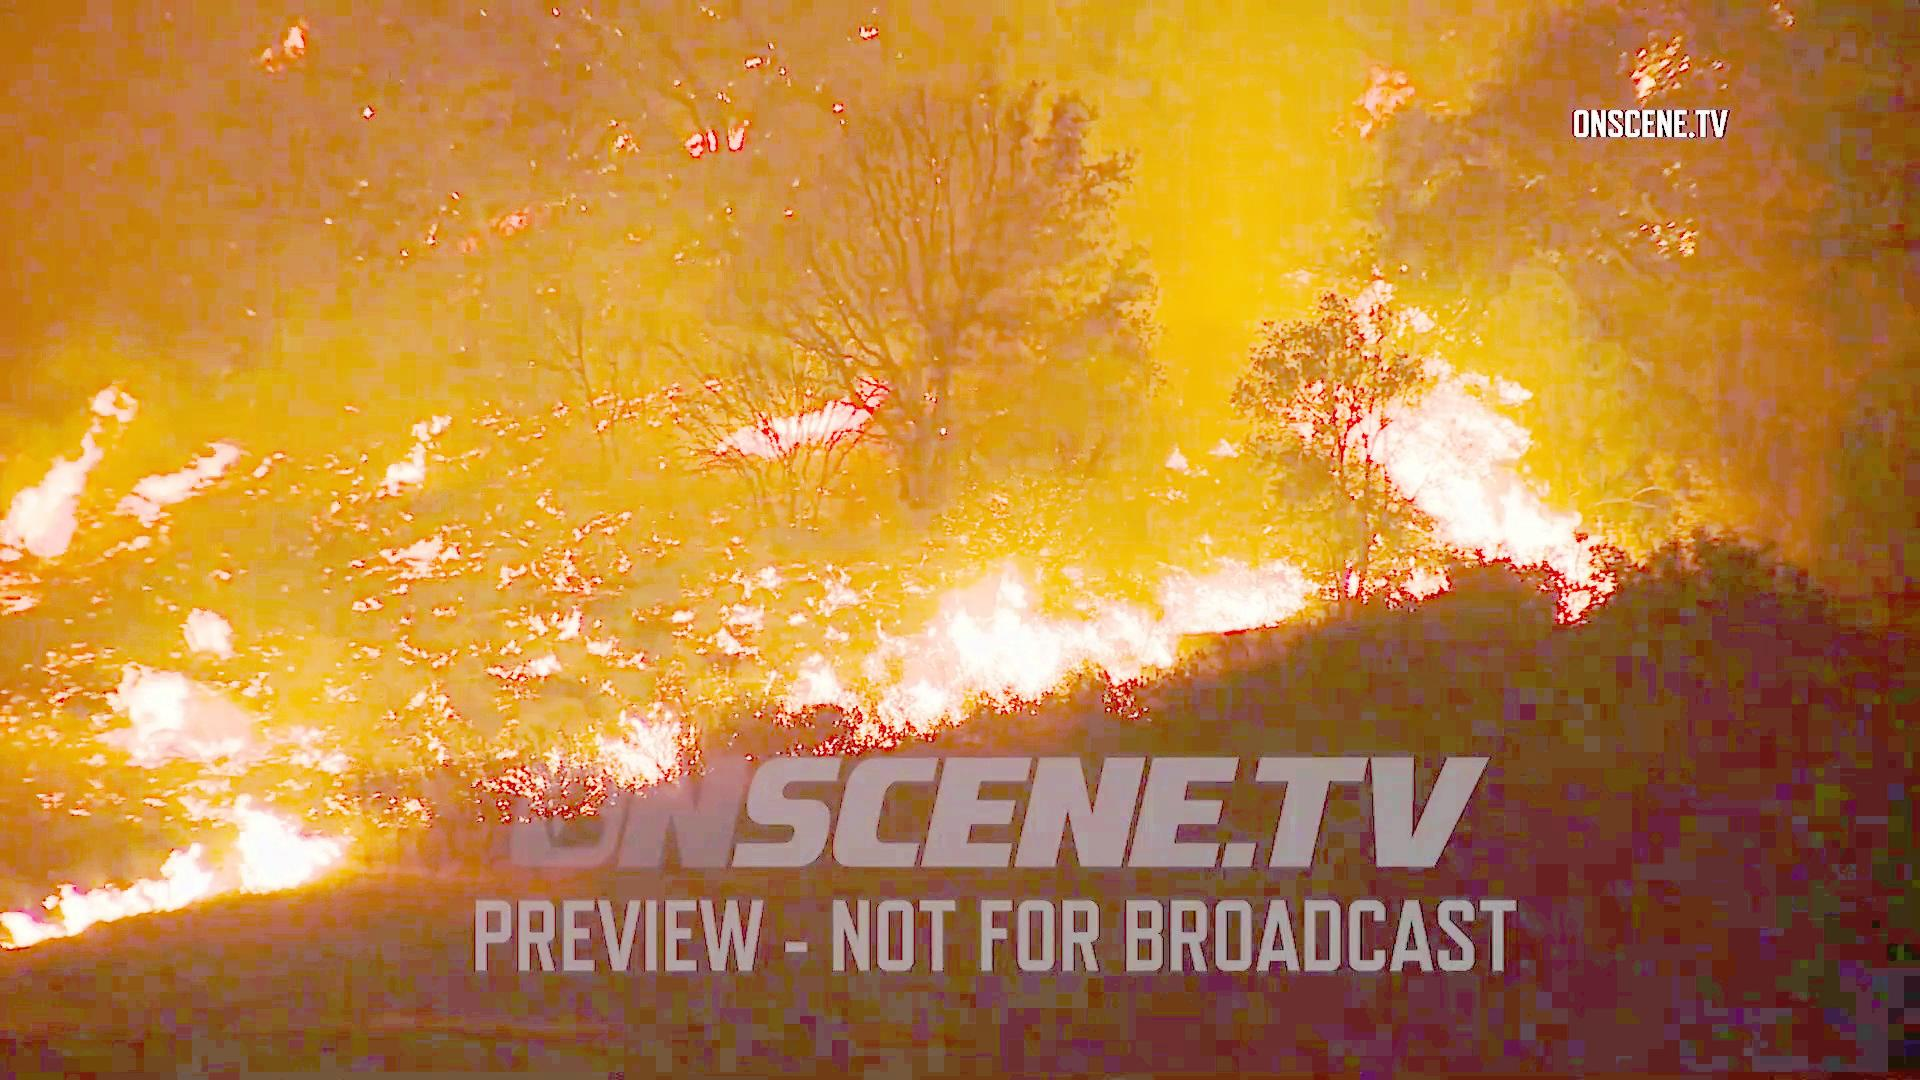fire: (1353, 295, 1639, 658), (0, 820, 343, 964), (926, 558, 1185, 715)
